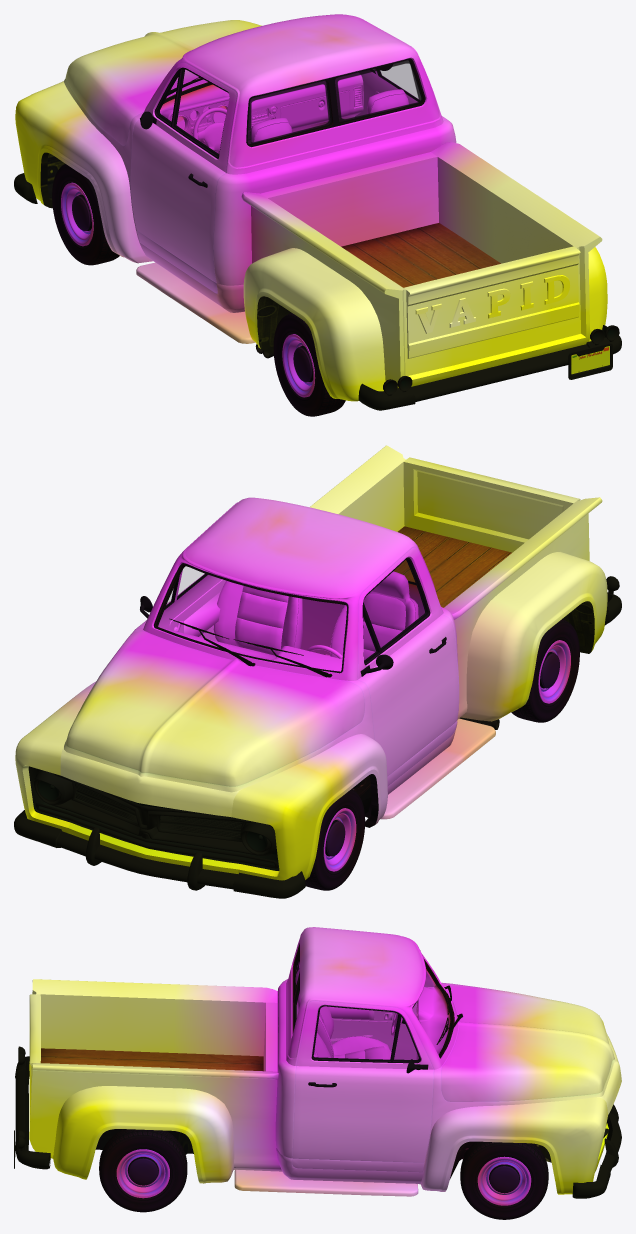
File: slamvan.glb
3 views of the same model, one above another, from view 1: azimuth 30°, elevation 25°; view 2: azimuth 150°, elevation 25°; view 3: azimuth 270°, elevation 25° (orthographic). The views are drawn at different scales.
Visible parts, largest first — view 1: bodyshell, door_dside_f, boot, wing_lf, bonnet, chassis, windscreen_r, bumper_r, wheel_lr, wheel_lf, window_lf, door_pside_f (+1 smaller); view 2: bodyshell, bonnet, door_dside_f, chassis, wing_lf, boot, bumper_f, wheel_lr, wheel_lf, wing_rf, window_lf, door_pside_f; view 3: bodyshell, door_pside_f, bonnet, wing_rf, wheel_rr, wheel_rf, chassis, window_rf, door_dside_f, bumper_r, bumper_f, boot (+1 smaller).
Boxes of the visible parts, x1,y1,x2,y2 form: bodyshell: [62, 14, 607, 401]; door_dside_f: [130, 62, 236, 293]; boot: [404, 246, 580, 358]; wing_lf: [15, 81, 152, 263]; bonnet: [65, 20, 261, 145]; chassis: [47, 60, 424, 184]; windscreen_r: [247, 60, 423, 144]; bumper_r: [358, 325, 621, 410]; wheel_lr: [273, 313, 345, 416]; wheel_lf: [52, 164, 119, 265]; window_lf: [174, 70, 228, 155]; door_pside_f: [355, 67, 449, 121]; bodyshell: [28, 445, 607, 873]; bonnet: [65, 631, 364, 786]; door_dside_f: [357, 547, 458, 786]; chassis: [155, 564, 424, 813]; wing_lf: [231, 734, 387, 880]; boot: [403, 457, 580, 552]; bumper_f: [14, 810, 305, 898]; wheel_lr: [511, 619, 579, 722]; wheel_lf: [305, 789, 365, 890]; wing_rf: [15, 681, 95, 833]; window_lf: [364, 560, 427, 649]; door_pside_f: [136, 551, 225, 641]; bodyshell: [29, 927, 621, 1196]; door_pside_f: [292, 1000, 433, 1172]; bonnet: [441, 982, 614, 1101]; wing_rf: [420, 1097, 607, 1194]; wheel_rr: [99, 1129, 187, 1212]; wheel_rf: [460, 1141, 548, 1219]; chassis: [292, 944, 551, 1178]; window_rf: [314, 1007, 397, 1060]; door_dside_f: [296, 966, 433, 1059]; bumper_r: [14, 1046, 50, 1169]; bumper_f: [572, 1104, 621, 1198]; boot: [29, 994, 40, 1098].
Size of the model in its own units: 2.14 by 1.88 by 4.83.
Materials: 16 (11 with a texture image).
